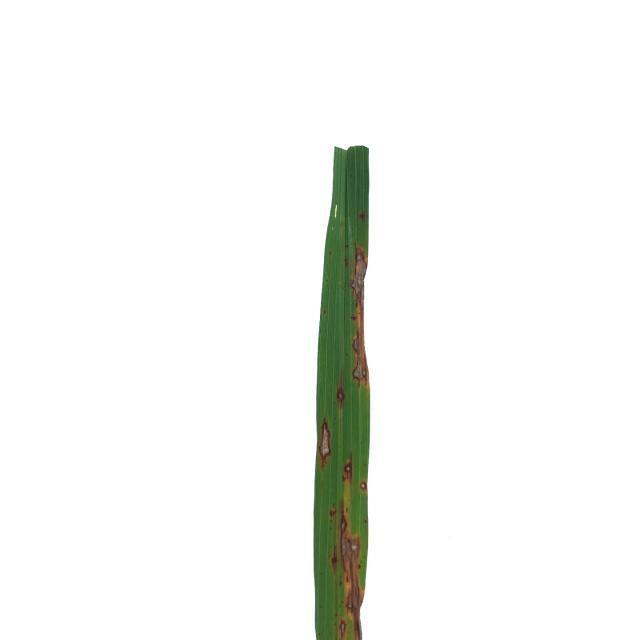Leaf_Blast: (332, 494, 359, 640), (349, 292, 365, 384), (346, 461, 369, 495), (350, 239, 363, 292), (318, 416, 330, 466), (333, 385, 355, 410)
